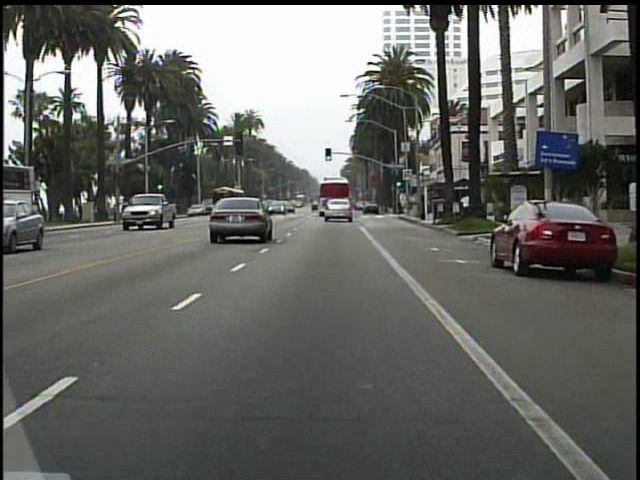person: (457, 191, 473, 221)
